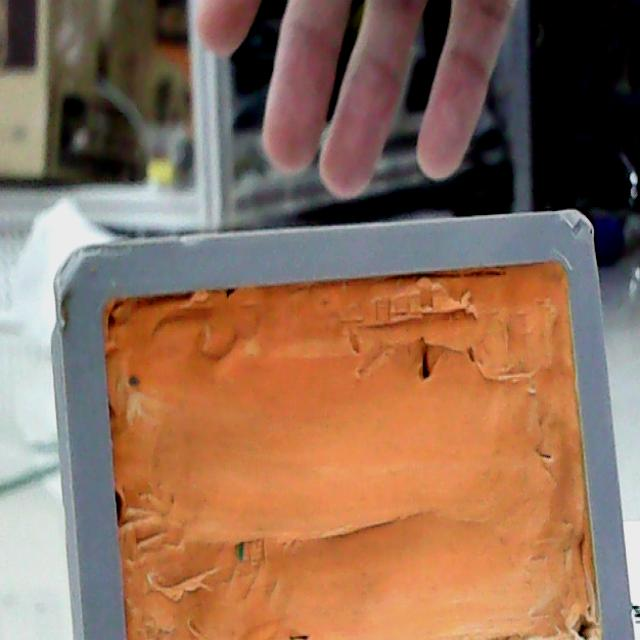block: (43, 197, 638, 640)
